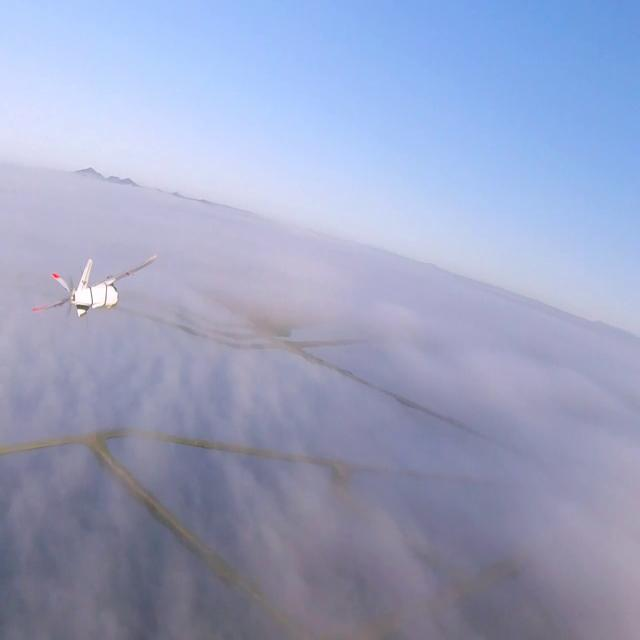iha: (0, 283, 62, 289)
